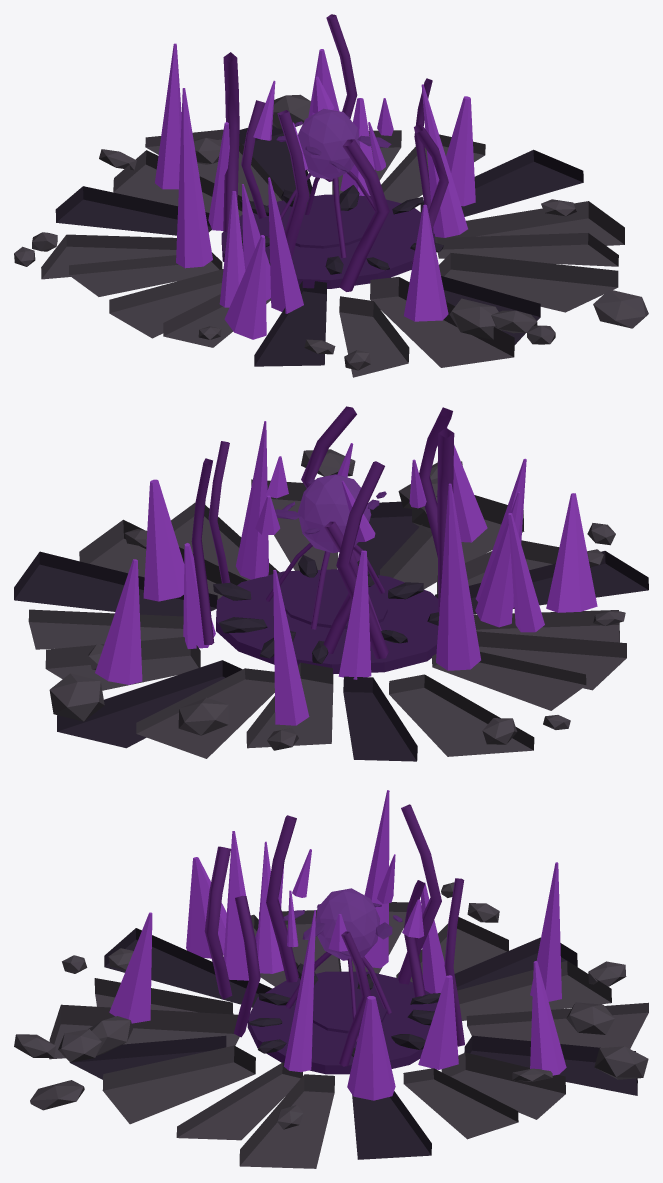
File: VeiledDisturbance.fbx
The picture shows the model from 3 angles, top to bottom: view 1: azimuth 30°, elevation 25°; view 2: azimuth 150°, elevation 25°; view 3: azimuth 270°, elevation 25°; orthographic projection. The views are drawn at different scales.
Parts seen in each view (by area): view 1: VoidCore, GroundPlate_15, GroundPlate_13, GroundPlate_16, GroundPlate_00, GroundPlate_06, GroundPlate_17, GroundPlate_09, GroundPlate_11, VoidShard_05, GroundPlate_08, GroundPlate_12 (+34 smaller); view 2: VoidCore, GroundPlate_07, GroundPlate_00, GroundPlate_03, GroundPlate_04, VoidShard_05, GroundPlate_09, GroundPlate_06, GroundPlate_08, GroundPlate_01, GroundPlate_02, GroundPlate_13 (+38 smaller); view 3: VoidCore, GroundPlate_15, GroundPlate_17, GroundPlate_13, GroundPlate_16, GroundPlate_05, GroundPlate_01, GroundPlate_04, GroundPlate_02, GroundPlate_00, GroundPlate_11, GroundPlate_03 (+33 smaller).
Boxes of the visible parts, <box> form: VoidCore: <box>221,194,435,288</box>; GroundPlate_15: <box>439,253,618,312</box>; GroundPlate_13: <box>370,277,514,367</box>; GroundPlate_16: <box>437,233,618,266</box>; GroundPlate_00: <box>420,149,583,216</box>; GroundPlate_06: <box>55,186,211,235</box>; GroundPlate_17: <box>435,201,624,245</box>; GroundPlate_09: <box>109,269,223,338</box>; GroundPlate_11: <box>254,281,326,366</box>; VoidShard_05: <box>176,88,212,268</box>; GroundPlate_08: <box>69,252,222,296</box>; GroundPlate_12: <box>339,296,409,377</box>; VoidCore: <box>216,569,438,674</box>; GroundPlate_07: <box>389,674,534,756</box>; GroundPlate_00: <box>14,551,217,616</box>; GroundPlate_03: <box>57,660,242,748</box>; GroundPlate_04: <box>136,668,274,758</box>; VoidShard_05: <box>436,483,480,670</box>; GroundPlate_09: <box>476,631,626,690</box>; GroundPlate_06: <box>343,676,417,761</box>; GroundPlate_08: <box>432,652,586,710</box>; GroundPlate_01: <box>28,609,183,649</box>; GroundPlate_02: <box>45,637,200,690</box>; GroundPlate_13: <box>380,495,524,589</box>; VoidCore: <box>247,971,437,1074</box>; GroundPlate_15: <box>102,1045,255,1124</box>; GroundPlate_17: <box>239,1074,334,1168</box>; GroundPlate_13: <box>49,1004,239,1059</box>; GroundPlate_16: <box>176,1062,302,1140</box>; GroundPlate_05: <box>457,961,611,1020</box>; GroundPlate_01: <box>403,1068,518,1139</box>; GroundPlate_04: <box>466,1002,648,1048</box>; GroundPlate_02: <box>441,1052,565,1119</box>; GroundPlate_00: <box>352,1091,431,1159</box>; GroundPlate_11: <box>104,928,272,1007</box>; GroundPlate_03: <box>464,1035,637,1095</box>.
Size of the model in its own units: 619 by 235 by 643.
